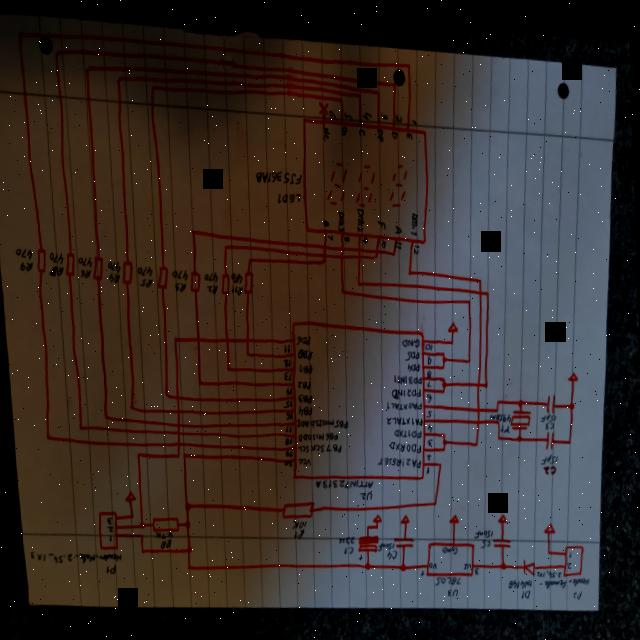capacitor: (356, 527, 378, 555), (392, 528, 413, 542), (492, 527, 510, 543), (542, 421, 554, 442), (544, 385, 556, 406)
crossover: (222, 332, 230, 341), (193, 332, 200, 340), (474, 410, 480, 419), (243, 331, 249, 340), (474, 373, 480, 381), (476, 281, 482, 289), (173, 390, 179, 398), (174, 404, 180, 411), (175, 437, 181, 444), (474, 398, 479, 406), (174, 426, 180, 432), (174, 418, 180, 424), (373, 242, 378, 248), (321, 238, 325, 245), (338, 241, 343, 246), (338, 248, 342, 254), (321, 247, 325, 253), (356, 248, 360, 253), (356, 241, 360, 246)
diode: (522, 550, 534, 569)
ground: (542, 512, 554, 527), (123, 486, 135, 501), (446, 313, 457, 326), (566, 362, 578, 373), (496, 506, 506, 516), (448, 506, 458, 516), (398, 507, 408, 517), (371, 507, 381, 516)
junction: (498, 553, 506, 564), (184, 541, 192, 552), (114, 72, 122, 83), (182, 498, 190, 508), (398, 556, 406, 566), (567, 392, 574, 403), (16, 28, 23, 39), (148, 81, 156, 90), (363, 555, 370, 565), (183, 516, 190, 526), (138, 517, 144, 528), (243, 345, 250, 354), (190, 224, 196, 233), (44, 431, 50, 440), (172, 331, 178, 340), (464, 349, 470, 358), (102, 410, 108, 419), (224, 361, 230, 370), (52, 47, 58, 56), (84, 63, 90, 72), (138, 544, 144, 552), (516, 426, 522, 434), (185, 560, 191, 568), (77, 421, 83, 429), (138, 529, 144, 537), (196, 375, 202, 383), (465, 291, 471, 299), (162, 388, 168, 396), (406, 262, 412, 270), (516, 391, 522, 399), (222, 240, 228, 247), (134, 449, 140, 456), (472, 433, 478, 440), (246, 252, 252, 259), (128, 510, 134, 517), (482, 374, 488, 381), (404, 55, 410, 62), (431, 493, 436, 501), (545, 540, 551, 546), (440, 374, 446, 380), (440, 349, 446, 355), (566, 429, 571, 436), (128, 401, 133, 408), (476, 270, 481, 276), (436, 455, 441, 461), (181, 449, 186, 455), (373, 517, 378, 523), (356, 87, 361, 93), (374, 84, 378, 91), (496, 426, 500, 433), (390, 244, 394, 251), (485, 282, 489, 288), (356, 275, 360, 281), (449, 332, 453, 338), (175, 449, 179, 455), (365, 518, 369, 524), (338, 92, 342, 98), (392, 75, 396, 81), (442, 432, 446, 438), (339, 282, 343, 288), (495, 392, 499, 397), (440, 370, 444, 375), (440, 344, 444, 349), (320, 253, 324, 258), (373, 249, 377, 254), (440, 425, 444, 430), (441, 381, 444, 386), (496, 411, 498, 418), (494, 399, 496, 406), (440, 358, 443, 362), (442, 440, 444, 444)
resistor: (280, 494, 314, 515), (150, 512, 178, 530), (155, 262, 168, 287), (121, 257, 133, 282), (92, 253, 104, 278), (63, 250, 75, 275), (35, 245, 46, 272), (188, 267, 200, 290), (242, 266, 253, 291), (219, 268, 230, 291)
terminal: (97, 507, 118, 549), (560, 534, 584, 570)
text: (29, 546, 121, 565), (313, 469, 373, 489), (292, 408, 349, 427), (537, 564, 589, 583), (254, 163, 301, 182), (294, 434, 340, 452), (294, 423, 338, 439), (376, 447, 418, 463), (386, 406, 422, 423), (387, 432, 423, 449), (384, 392, 422, 408), (389, 378, 422, 394), (392, 365, 421, 381), (391, 420, 421, 435), (275, 185, 300, 201), (434, 567, 461, 580), (507, 569, 531, 581), (354, 201, 364, 228), (488, 404, 510, 416), (534, 560, 560, 570), (14, 245, 32, 259), (170, 264, 188, 278), (539, 443, 557, 457), (408, 205, 418, 230), (472, 520, 492, 532), (296, 341, 312, 355), (48, 262, 64, 276), (136, 261, 152, 275), (295, 399, 313, 411), (376, 534, 394, 546), (404, 341, 419, 355), (401, 331, 419, 342), (337, 528, 355, 539), (538, 403, 556, 414), (290, 513, 306, 525), (335, 205, 344, 226), (48, 250, 62, 263), (76, 253, 90, 266), (404, 355, 419, 367), (295, 329, 310, 341), (154, 527, 172, 537), (296, 388, 312, 399), (296, 451, 310, 463), (18, 258, 32, 270), (106, 269, 120, 281), (106, 258, 119, 270), (104, 559, 116, 572), (203, 268, 217, 279), (296, 374, 310, 385), (298, 358, 312, 369), (542, 455, 556, 466), (138, 274, 152, 285), (320, 120, 329, 137), (441, 538, 456, 548), (230, 268, 242, 280), (173, 278, 186, 289), (292, 523, 304, 534), (230, 281, 242, 292), (392, 216, 402, 229), (205, 280, 218, 290), (359, 485, 371, 495), (446, 580, 458, 590), (376, 213, 386, 225), (385, 543, 397, 553), (78, 266, 90, 276), (159, 535, 171, 545), (479, 531, 490, 541), (498, 415, 508, 426), (520, 580, 530, 591), (375, 122, 382, 137), (361, 105, 371, 115), (342, 539, 352, 549), (571, 580, 581, 590), (390, 122, 398, 134), (544, 412, 554, 421), (282, 394, 292, 403), (379, 104, 387, 115), (284, 405, 292, 416), (343, 105, 351, 116), (321, 213, 329, 223), (394, 108, 402, 118), (424, 444, 432, 454), (282, 366, 290, 376), (284, 381, 292, 391), (282, 353, 290, 363), (327, 104, 335, 114), (339, 119, 346, 130), (404, 125, 412, 134), (427, 554, 436, 562), (462, 554, 470, 563), (284, 431, 292, 440), (284, 443, 292, 452), (425, 386, 431, 397), (426, 347, 432, 358), (284, 454, 292, 462), (284, 419, 291, 428), (394, 234, 401, 243), (380, 233, 386, 243), (412, 238, 418, 248), (283, 338, 289, 348), (424, 336, 432, 343), (105, 514, 112, 522), (425, 362, 431, 371), (426, 416, 431, 426), (424, 403, 430, 411), (426, 431, 432, 439), (472, 559, 478, 567), (358, 123, 364, 131), (565, 552, 571, 560), (360, 231, 367, 237), (410, 112, 416, 119), (326, 229, 332, 235), (342, 230, 348, 236), (425, 458, 429, 467), (567, 541, 571, 550), (106, 524, 112, 530), (419, 562, 424, 569), (426, 373, 430, 381), (107, 531, 111, 539)
